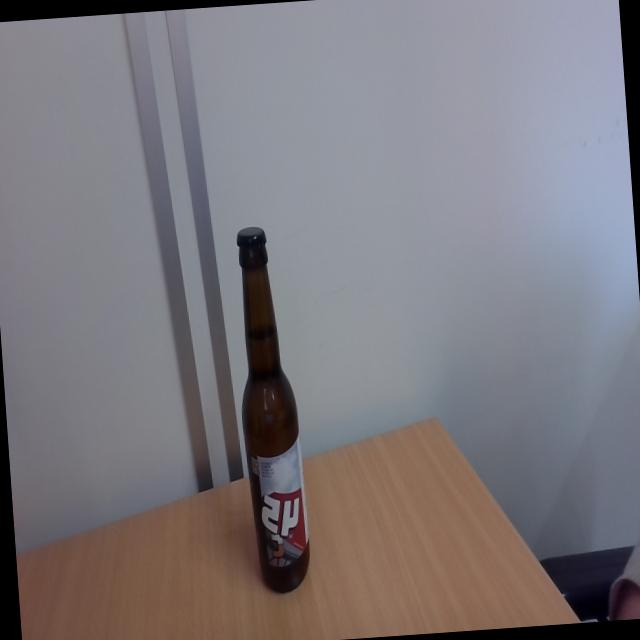Bottle: (230, 245, 315, 598)
Cap: (233, 222, 268, 252)
Label: (244, 438, 310, 568)
